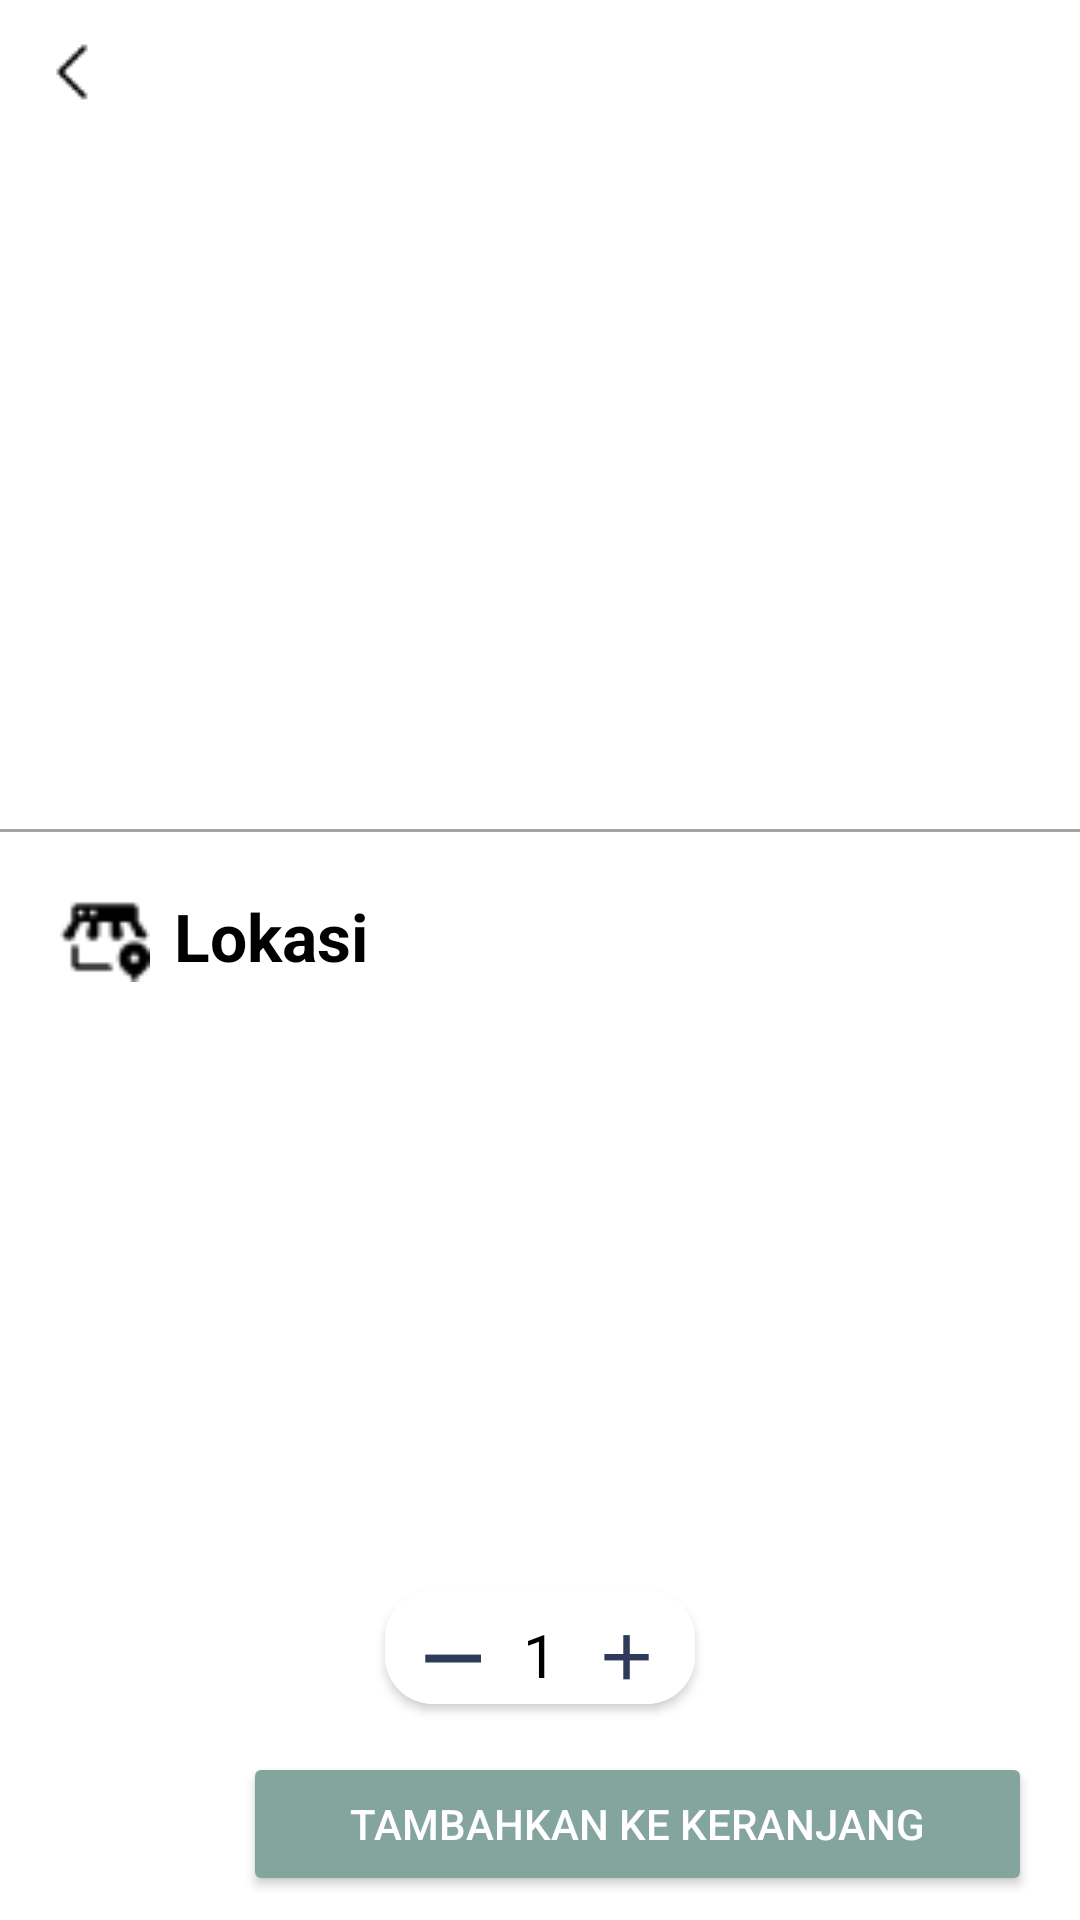

Screen size 1080px x 1920px. Icon name, then its box in pixels as (x1, y1, x2, y2):
image button back: (56, 44, 88, 100)
plus: (604, 1635, 649, 1680)
shop location: (60, 902, 150, 982)
